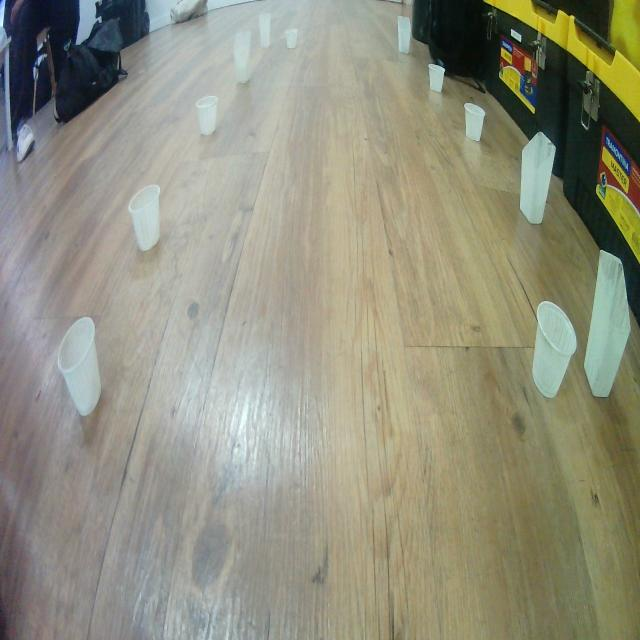erva_daninha: (583, 248, 632, 399), (519, 130, 556, 226), (234, 30, 252, 84), (397, 15, 411, 54), (259, 13, 271, 49)
planta: (56, 316, 102, 418), (532, 300, 578, 399), (128, 184, 162, 252), (196, 95, 218, 136), (463, 103, 486, 142), (428, 63, 446, 93), (286, 29, 298, 49)
